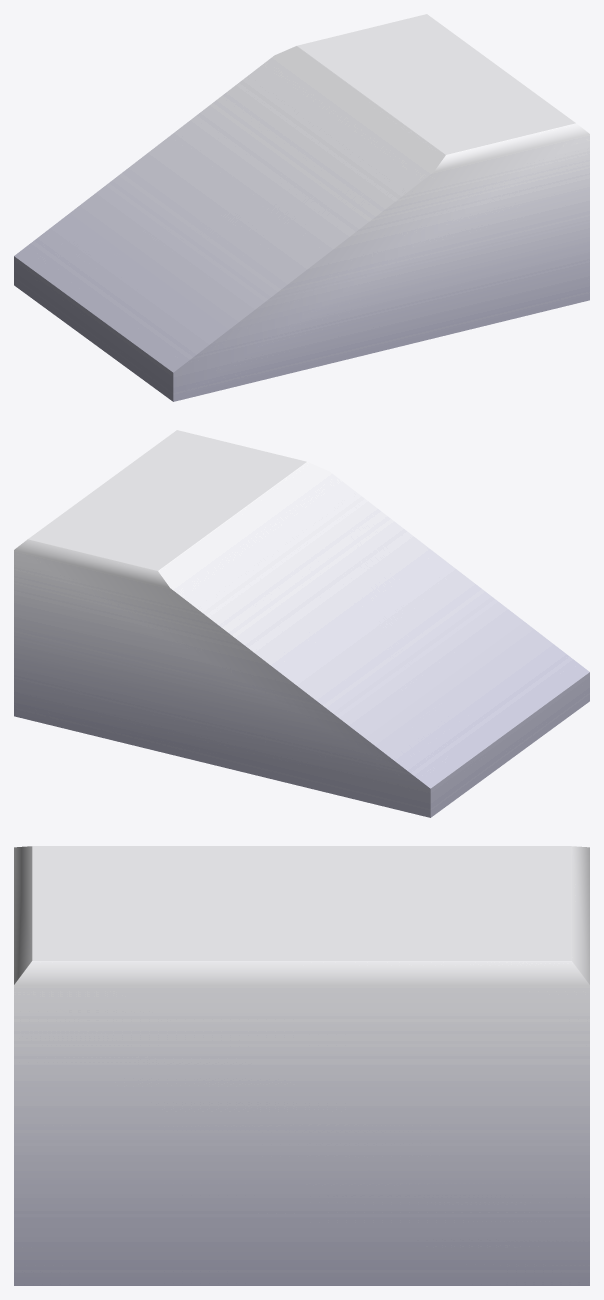
File: brick-kit--none-hq-brick-slope-3x2.glb
3 renders of one model, top to bottom at view 1: azimuth 30°, elevation 25°; view 2: azimuth 150°, elevation 25°; view 3: azimuth 270°, elevation 25°, orthographic. The views are drawn at different scales.
Visible parts, largest first — view 1: none-hq-brick-slope-3x2; view 2: none-hq-brick-slope-3x2; view 3: none-hq-brick-slope-3x2.
Boxes of the visible parts, x1,y1,x2,y2 form: none-hq-brick-slope-3x2: (14, 14, 589, 401); none-hq-brick-slope-3x2: (14, 430, 589, 817); none-hq-brick-slope-3x2: (14, 846, 589, 1285).
Size of the model in its own units: 0.2385 by 0.096 by 0.158.
Materials: 1 (1 with a texture image).
